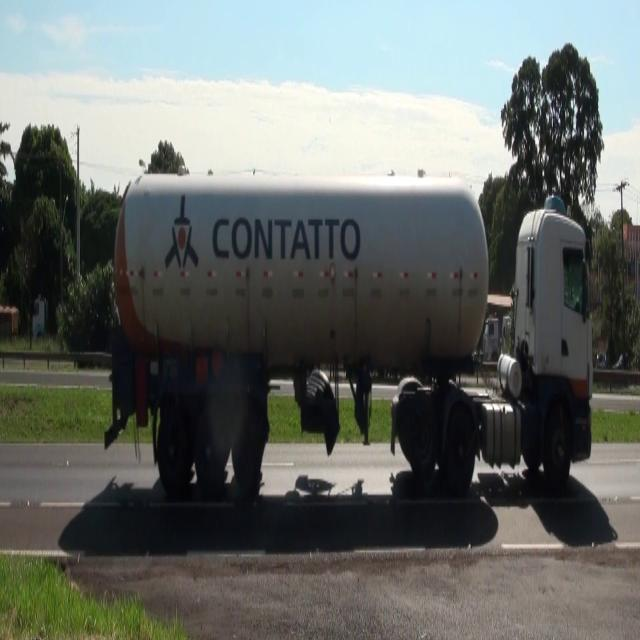-axle: (230, 404, 266, 500), (157, 409, 190, 504), (193, 408, 227, 500), (409, 398, 440, 488), (444, 402, 476, 485), (543, 401, 571, 491)
